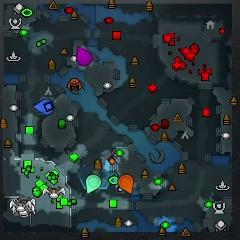p1: (34, 99, 56, 117)
p2: (85, 175, 102, 193)
p3: (75, 45, 95, 67)
p5: (118, 173, 135, 195)
